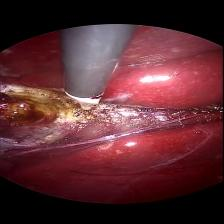Hook: (64, 87, 106, 120)
